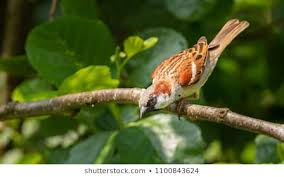home_sparrow: (131, 17, 260, 124)
